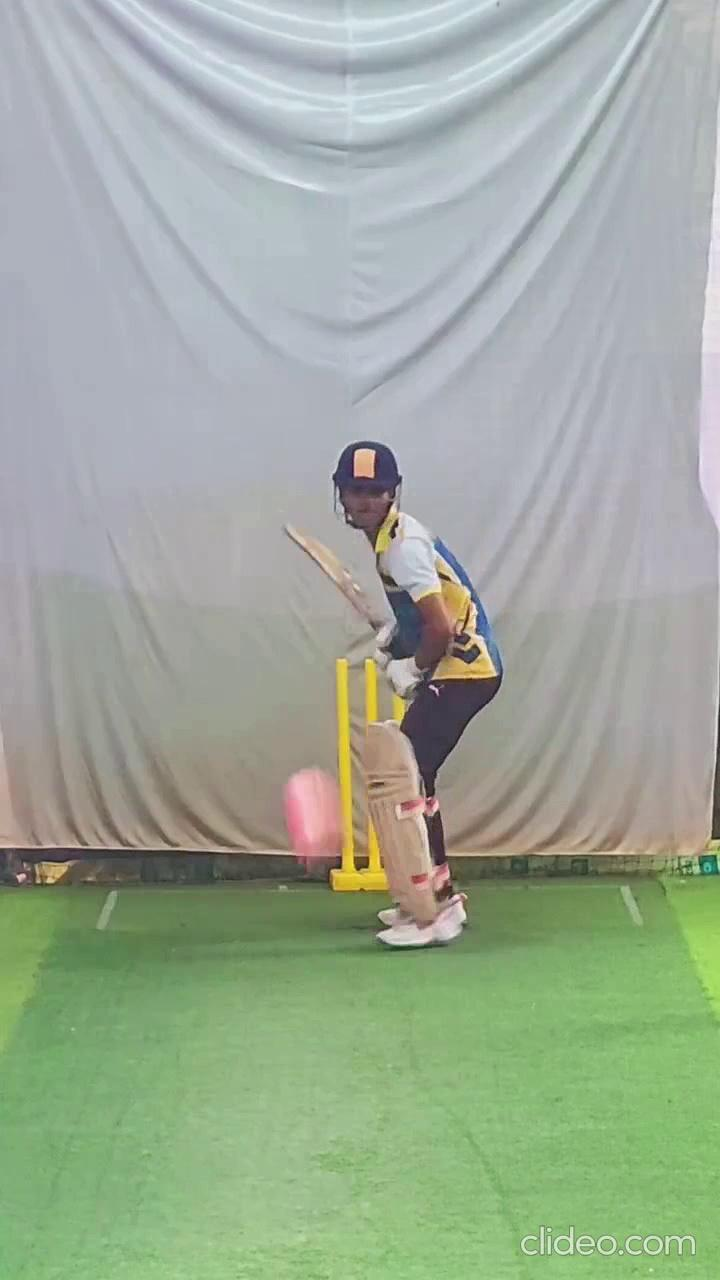bat: (282, 509, 398, 633)
